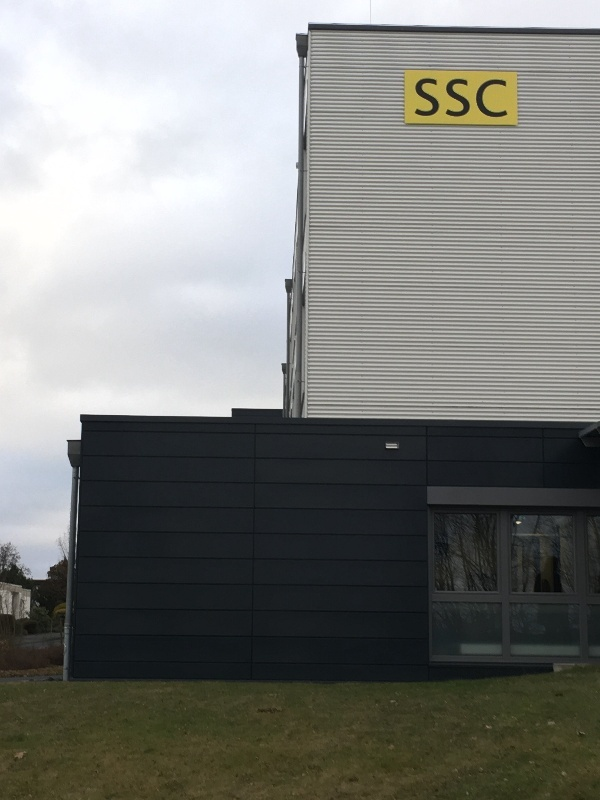text: (417, 79, 432, 118), (433, 79, 448, 118), (449, 79, 464, 118), (465, 79, 480, 118), (481, 79, 496, 118), (497, 79, 508, 118)
